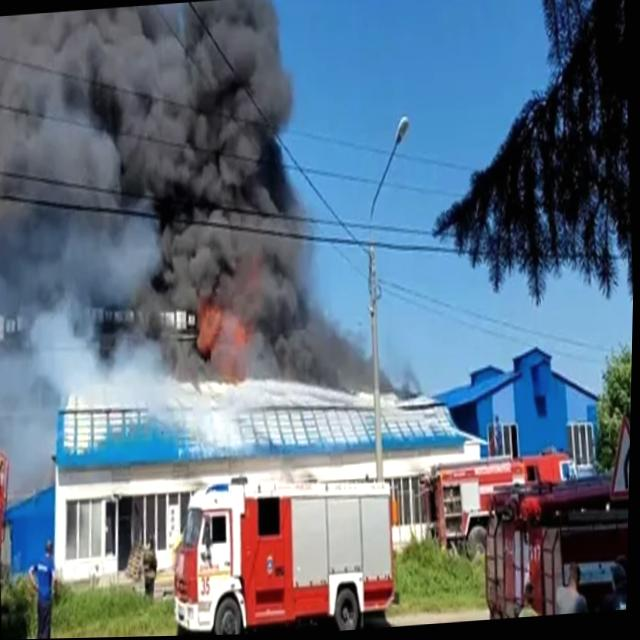no_helmet: (0, 0, 428, 431)
